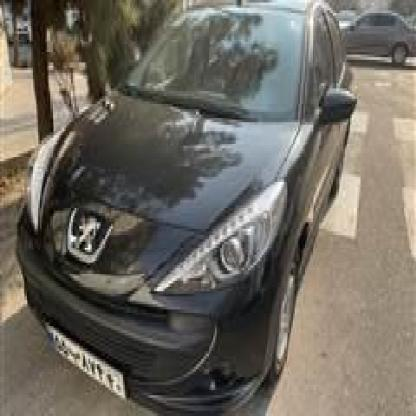Car: (12, 0, 354, 416), (327, 0, 416, 75)
